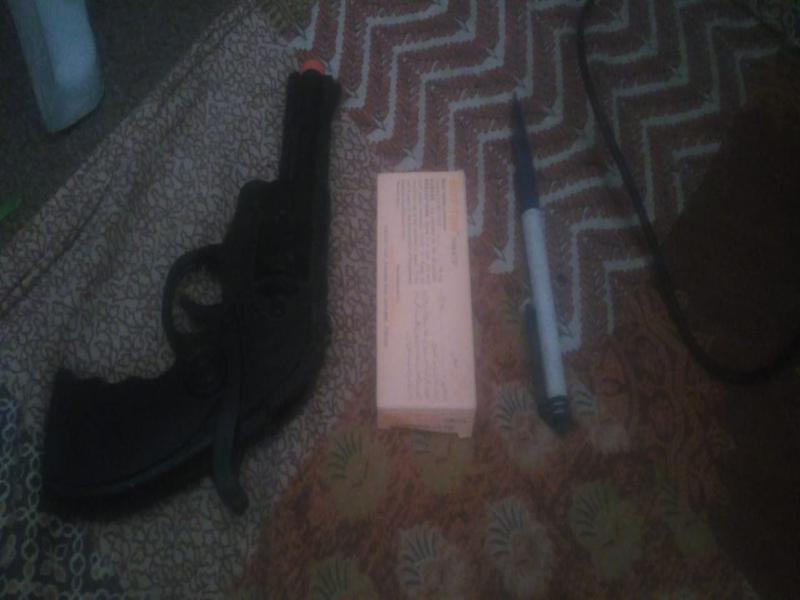gun: (36, 55, 354, 537)
